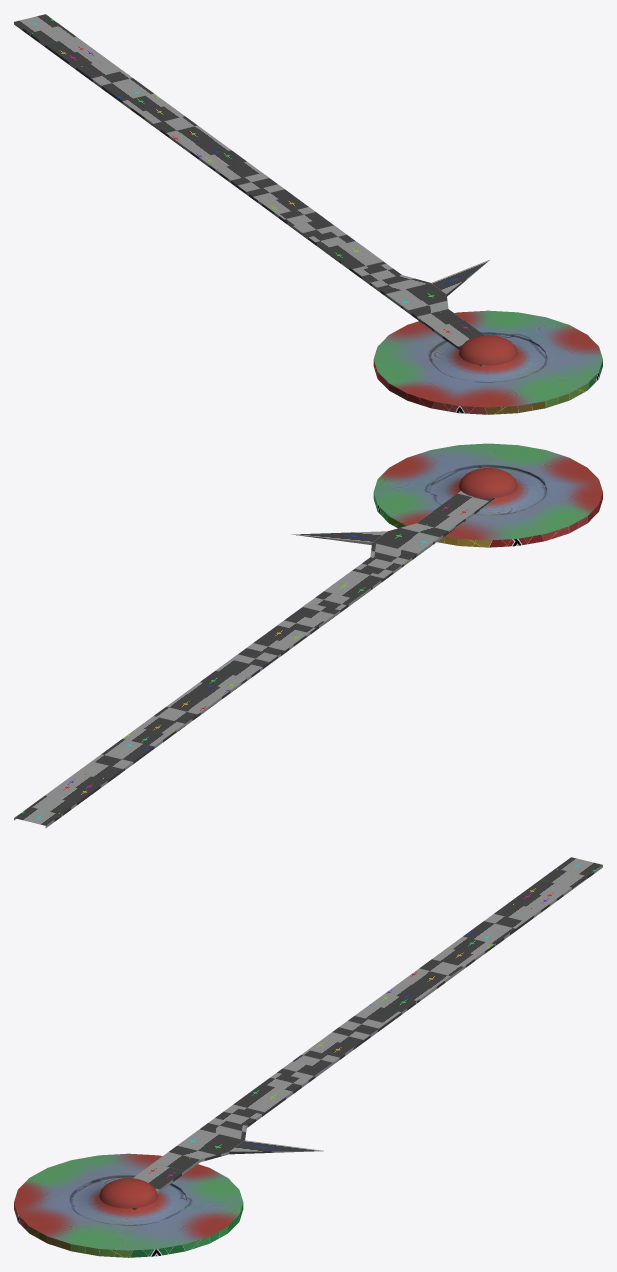
The picture shows the model from 3 angles, top to bottom: view 1: azimuth 30°, elevation 25°; view 2: azimuth 150°, elevation 25°; view 3: azimuth 330°, elevation 25°; orthographic projection.
Parts seen in each view (by area): view 1: Disk1, Bar1; view 2: Disk1, Bar1; view 3: Disk1, Bar1.
Part boxes in pixels (left/top/right/bottom): Disk1: left=373, top=310, right=602, bottom=414; Bar1: left=14, top=14, right=489, bottom=366; Disk1: left=373, top=443, right=602, bottom=547; Bar1: left=14, top=491, right=496, bottom=827; Disk1: left=14, top=1153, right=243, bottom=1257; Bar1: left=131, top=857, right=602, bottom=1209.
Size of the model in its own units: 7.83 by 0.9916 by 35.11.
2 materials, 2 textured.
